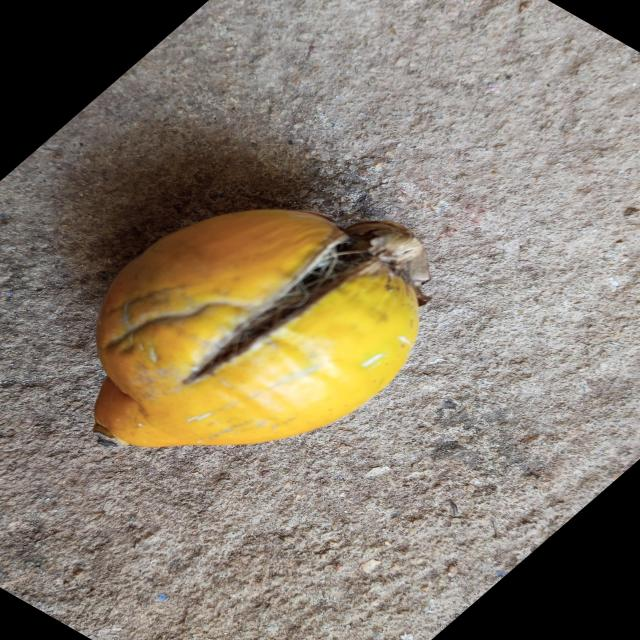damaged: (93, 210, 430, 447)
